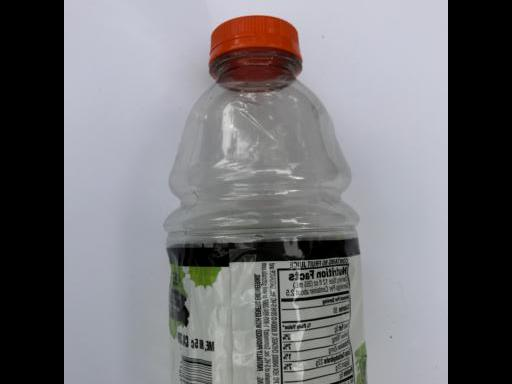bottle: (153, 17, 404, 384)
